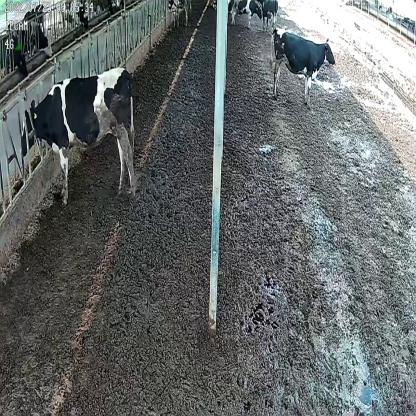cow: (20, 67, 138, 208), (269, 26, 335, 107), (228, 0, 262, 30), (262, 0, 278, 33)
